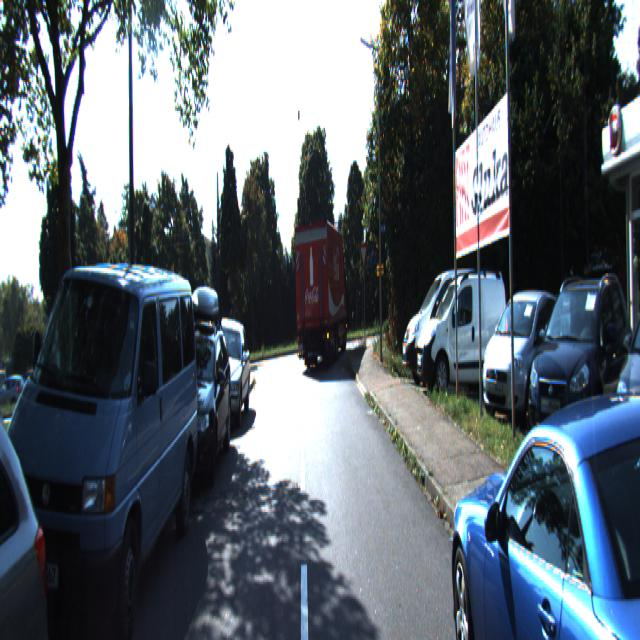Car: (0, 234, 203, 638), (445, 355, 640, 638), (524, 276, 636, 460), (0, 336, 67, 639), (152, 308, 235, 499), (400, 263, 509, 386), (481, 286, 570, 426), (413, 267, 508, 397), (292, 217, 349, 370), (612, 272, 640, 503), (202, 312, 254, 433)
